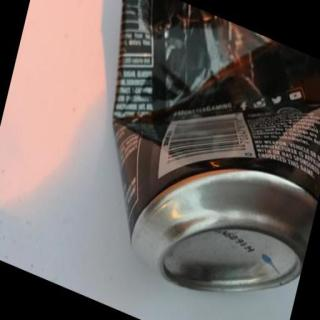METAL: (115, 0, 316, 290)
